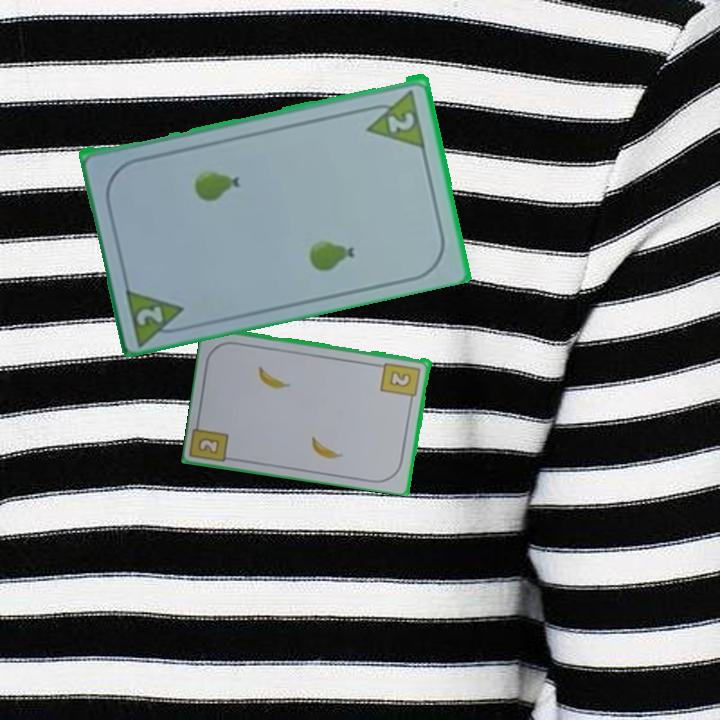2b: (378, 359, 423, 405), (197, 435, 221, 455)
2p: (360, 85, 428, 149), (133, 301, 167, 328)
